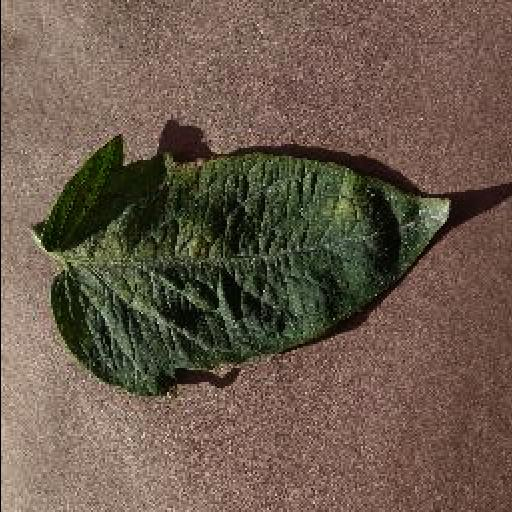disease_tomato: (42, 134, 456, 402)
